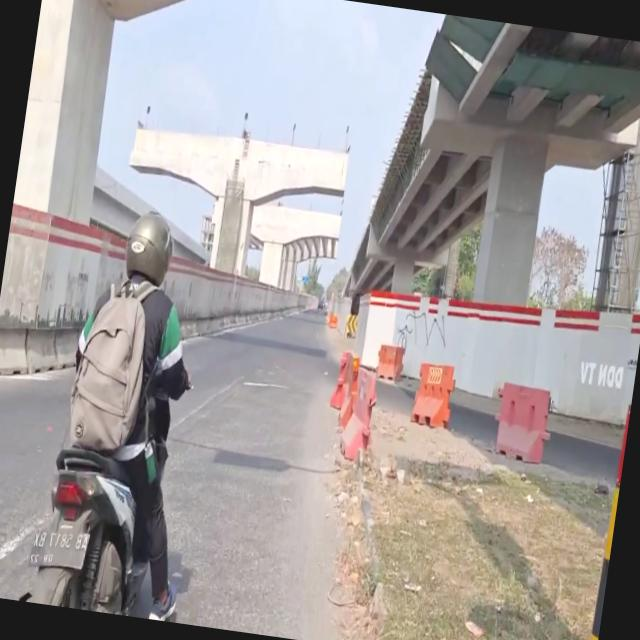WithHelmet: (40, 202, 232, 623)
